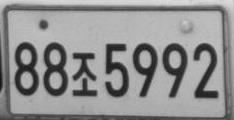2: (192, 42, 219, 98)
5: (104, 42, 130, 98)
8: (42, 41, 69, 97), (13, 41, 40, 96)
9: (161, 42, 188, 98), (131, 42, 158, 97)
조: (71, 51, 97, 96)
